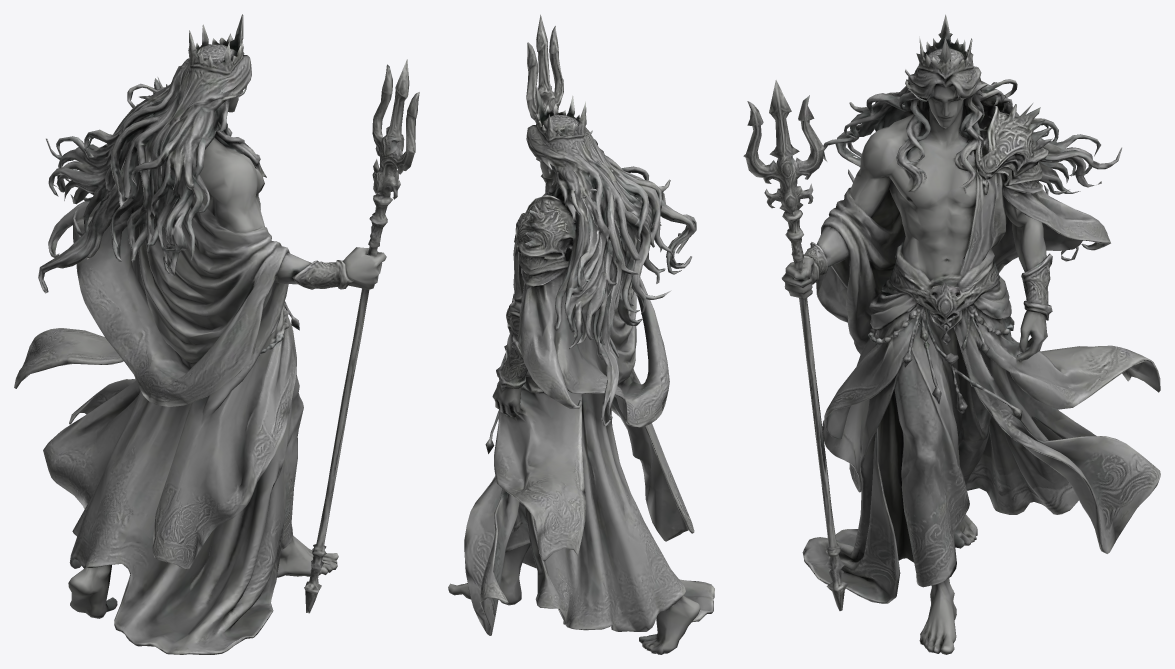
Rendered from poseidon.glb.
The picture shows the model from 3 angles, left to right: view 1: azimuth 30°, elevation 25°; view 2: azimuth 150°, elevation 25°; view 3: azimuth 270°, elevation 25°; orthographic projection. The views are drawn at different scales.
Visible parts, largest first — view 1: tripo_node_ca90944c-d54a-4c91-9b53-12d13e23e1c6; view 2: tripo_node_ca90944c-d54a-4c91-9b53-12d13e23e1c6; view 3: tripo_node_ca90944c-d54a-4c91-9b53-12d13e23e1c6.
Boxes of the visible parts, x1=… form: tripo_node_ca90944c-d54a-4c91-9b53-12d13e23e1c6: x1=14, y1=14, x2=419, y2=654; tripo_node_ca90944c-d54a-4c91-9b53-12d13e23e1c6: x1=448, y1=14, x2=714, y2=654; tripo_node_ca90944c-d54a-4c91-9b53-12d13e23e1c6: x1=743, y1=14, x2=1160, y2=654.
Size of the model in its own units: 0.4942 by 1 by 0.6601.
1 material, 1 textured.
